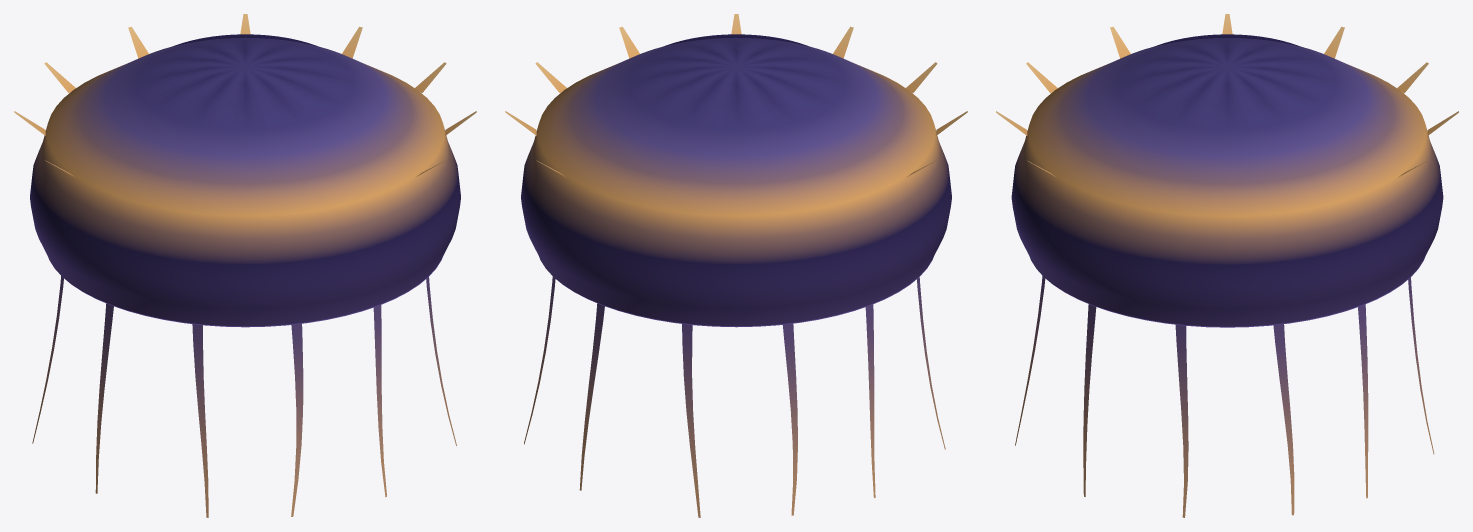
The model's file is creature-crown-jelly.glb.
The picture shows the model from 3 angles, left to right: view 1: azimuth 30°, elevation 25°; view 2: azimuth 150°, elevation 25°; view 3: azimuth 270°, elevation 25°; orthographic projection.
Parts seen in each view (by area): view 1: creature-crown-jelly; view 2: creature-crown-jelly; view 3: creature-crown-jelly.
Part boxes in pixels (x1,y1,x2,y2): creature-crown-jelly: [14, 14, 476, 517]; creature-crown-jelly: [505, 14, 967, 517]; creature-crown-jelly: [996, 14, 1458, 517].
Bounding box in the file's own units: 2.36 × 2.04 × 2.36.
